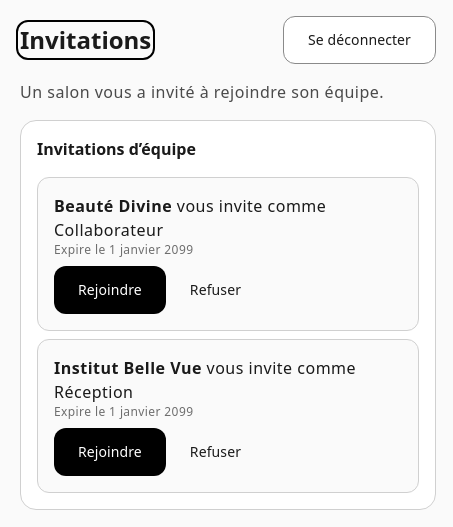
it: ProMembershipProvider — the rejoin gate › Refuser one card of two → that card goes, the page stays
The width and height of the screenshot is (453, 527).
Expected: the text "Beauté Divine vous invite comme Collaborateur" is shown, [54,195,326,241]
Click the button "Refuser" below "Beauté Divine" at point(216, 290), box [174,266,257,314]
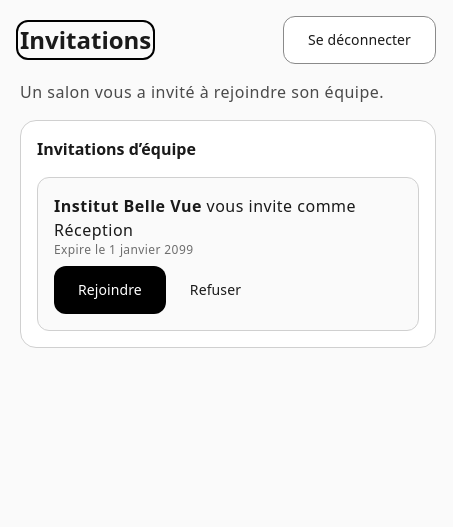
Expected: the text "Institut Belle Vue vous invite comme Réception" is shown, [54,194,402,242]
Expected: the text "invite comme Collaborateur" is gone
